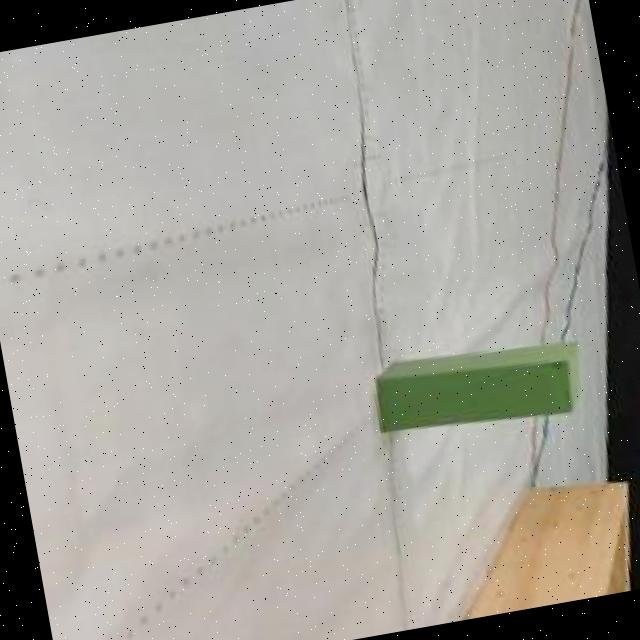greenbox: (370, 334, 592, 444)
